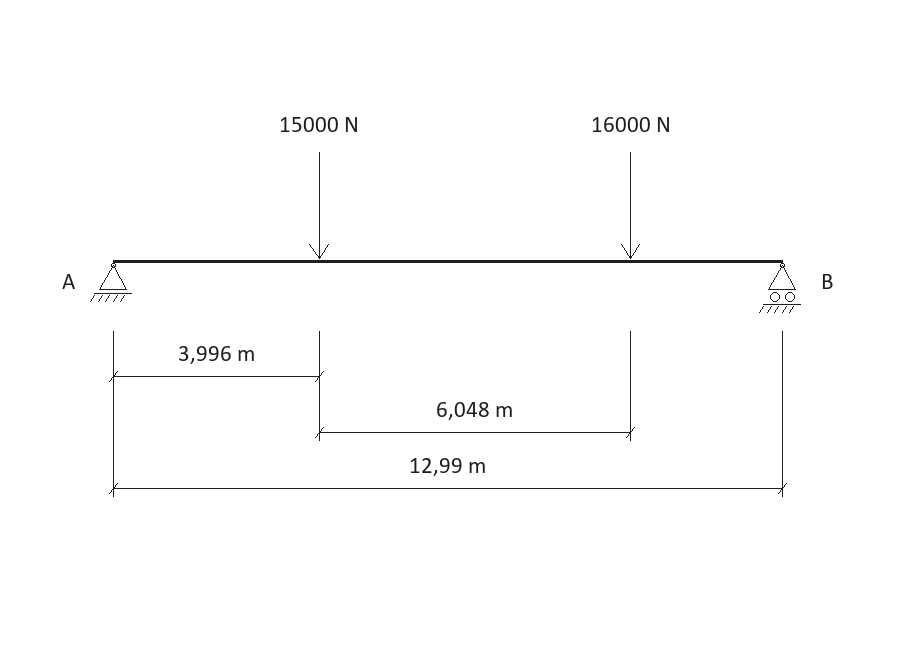pin_support: (90, 263, 132, 302)
point_load: (309, 152, 329, 259), (621, 152, 640, 259)
roller_support: (759, 263, 801, 313)
